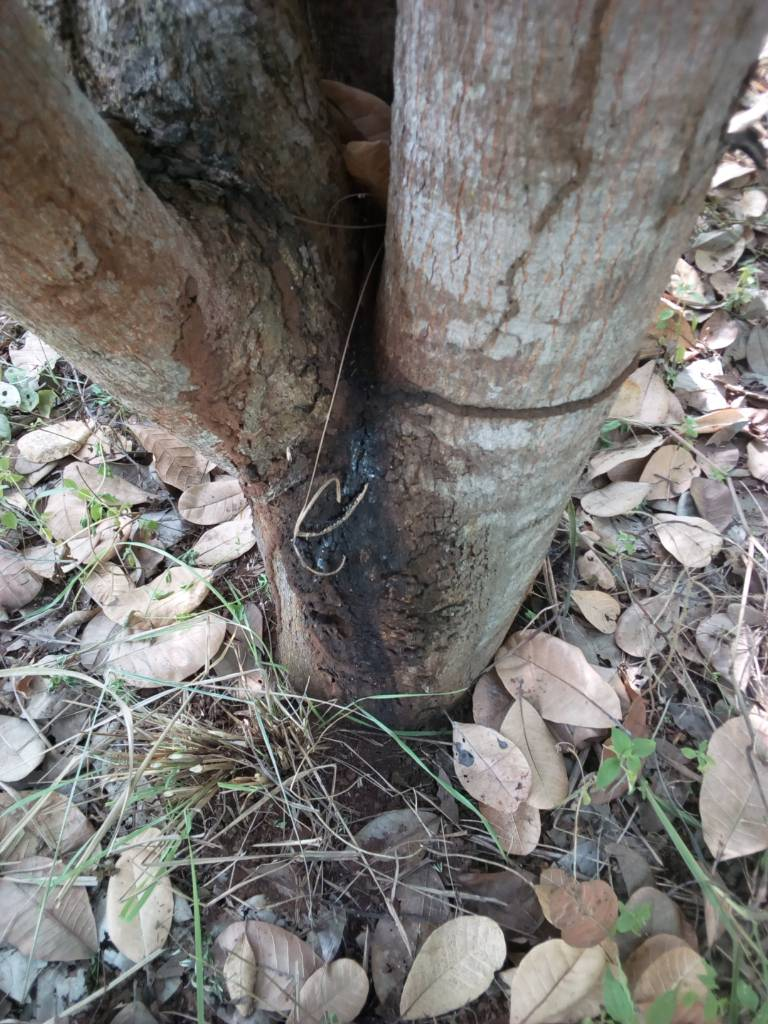Gommose: (272, 427, 425, 700)
